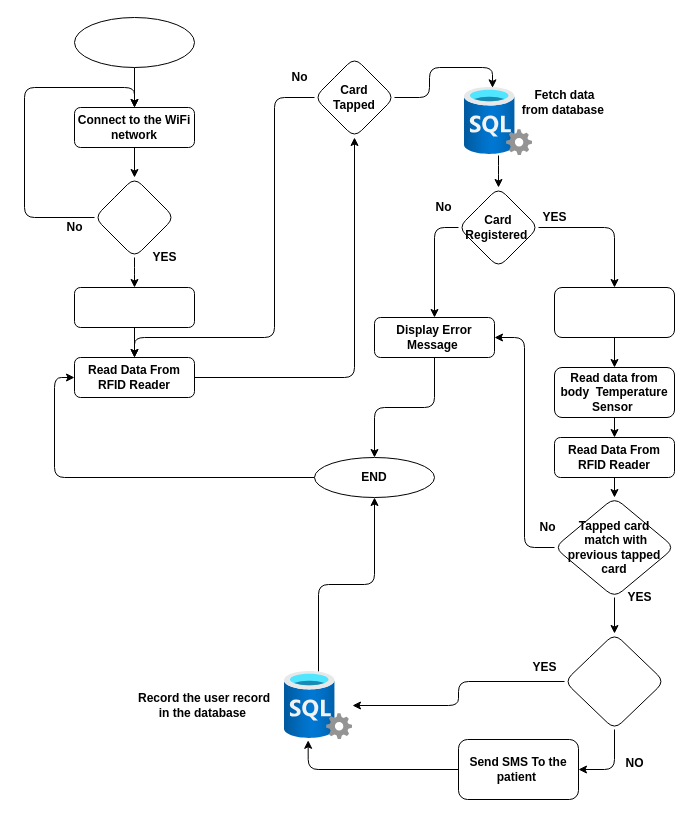
The diagram is 692 pixels wide and 817 high, and some of its shapes have lost their labels. Here are the shapes that lost their labels. From the top down, the box of each, then its label:
(74, 16, 194, 68): START
(94, 176, 174, 258): Network Connected
(74, 286, 194, 328): Initialize sensors
(554, 286, 674, 338): Read Data from Heart Beat and Oxygen Sensor
(564, 632, 664, 730): Are tests taken Normal
